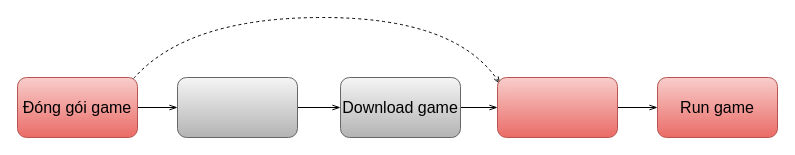
Image size: 795x155. Some labels were removed from this diagram. The shapes that lost their labels are listed below. From the top down, each one's box as (x1, y1, x2, y2) in pixels, then its label:
(176, 76, 298, 138): Push lên server
(496, 76, 618, 138): Deploy game
